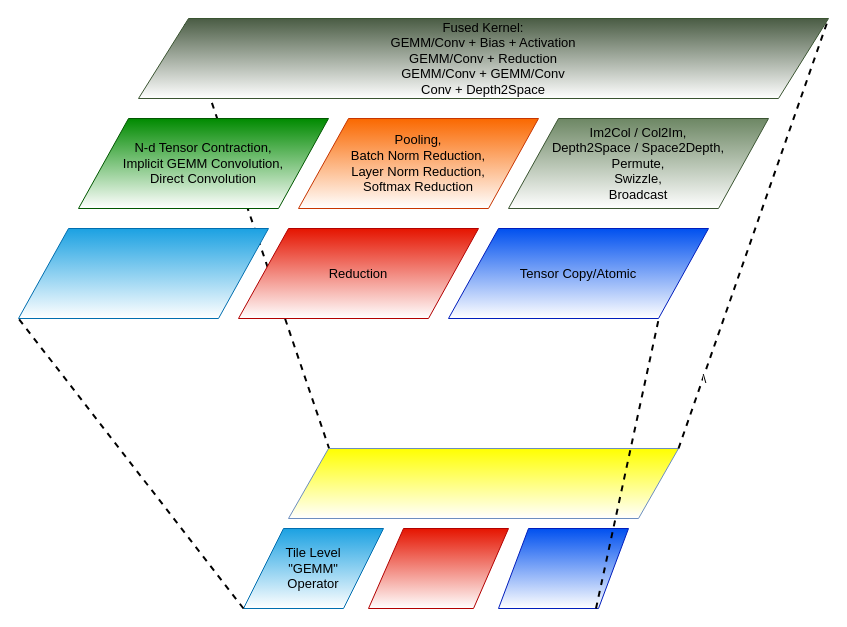
Some shapes in this 847 by 627 pixel diagram are drawn without their labels. Each missing label, with the centre of its shape:
GEMM: the point at 143,273
Tensor Coordinate Transformation Primitives: the point at 483,483
Tile Level "Reduction" Operator: the point at 438,568
Tile Level "Transfer" Operator: the point at 563,568
